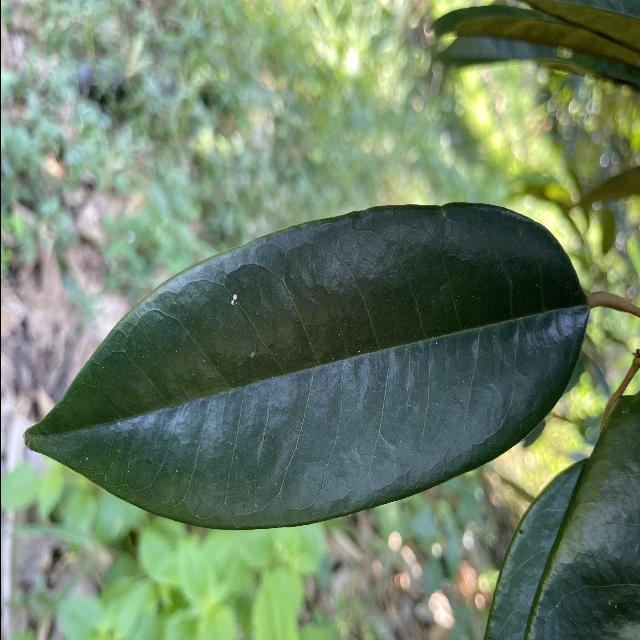No Disease: (17, 194, 603, 541)
